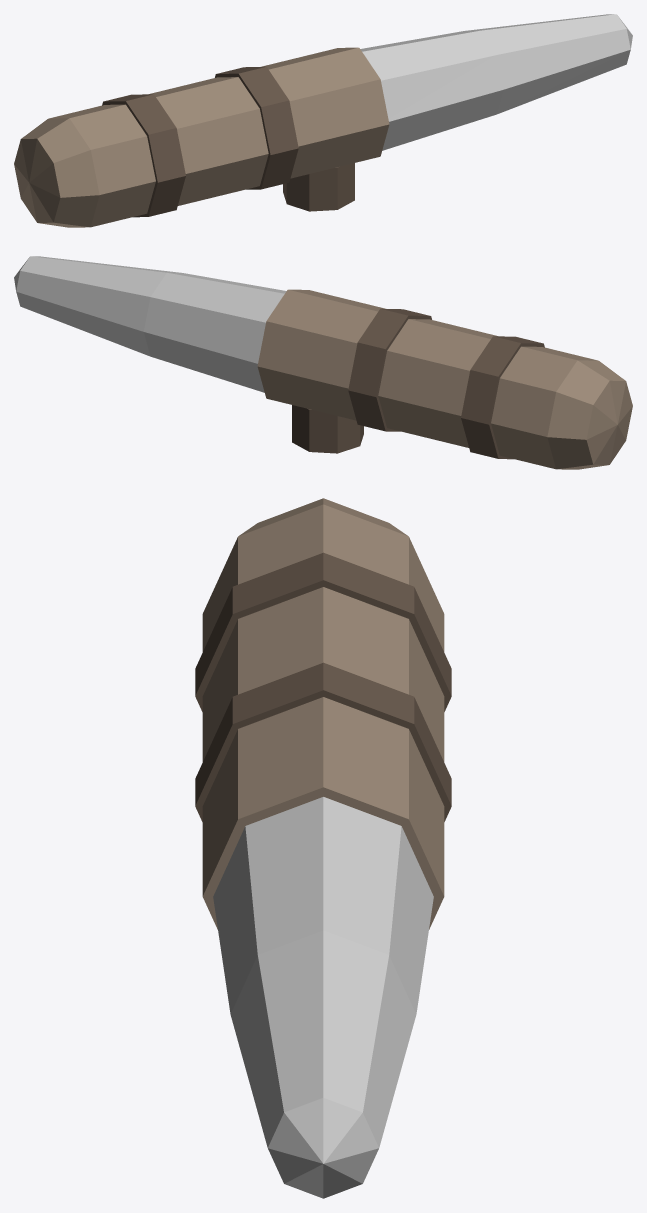
File: mech_turret_gun_inferno.obj
3 renders of one model, top to bottom at view 1: azimuth 30°, elevation 25°; view 2: azimuth 150°, elevation 25°; view 3: azimuth 270°, elevation 25°, orthographic. The views are drawn at different scales.
Parts seen in each view (by area): view 1: mech_turret_gun_inferno_0, mech_turret_gun_inferno_3, mech_turret_gun_inferno_1, mech_turret_gun_inferno_2, mech_turret_gun_inferno_4; view 2: mech_turret_gun_inferno_0, mech_turret_gun_inferno_3, mech_turret_gun_inferno_1, mech_turret_gun_inferno_2, mech_turret_gun_inferno_4; view 3: mech_turret_gun_inferno_3, mech_turret_gun_inferno_0, mech_turret_gun_inferno_2, mech_turret_gun_inferno_1.
Boxes of the visible parts, x1,y1,x2,y2 form: mech_turret_gun_inferno_0: (14, 47, 389, 227); mech_turret_gun_inferno_3: (360, 14, 632, 150); mech_turret_gun_inferno_1: (102, 94, 185, 217); mech_turret_gun_inferno_2: (215, 66, 298, 189); mech_turret_gun_inferno_4: (283, 163, 354, 211); mech_turret_gun_inferno_0: (257, 289, 632, 469); mech_turret_gun_inferno_3: (14, 256, 286, 392); mech_turret_gun_inferno_1: (461, 336, 544, 459); mech_turret_gun_inferno_2: (348, 308, 431, 431); mech_turret_gun_inferno_4: (292, 405, 363, 453); mech_turret_gun_inferno_3: (213, 797, 433, 1198); mech_turret_gun_inferno_0: (202, 498, 444, 929); mech_turret_gun_inferno_2: (195, 662, 451, 821); mech_turret_gun_inferno_1: (195, 552, 451, 711).
Size of the model in its own units: 1.5 by 0.338 by 0.276.
